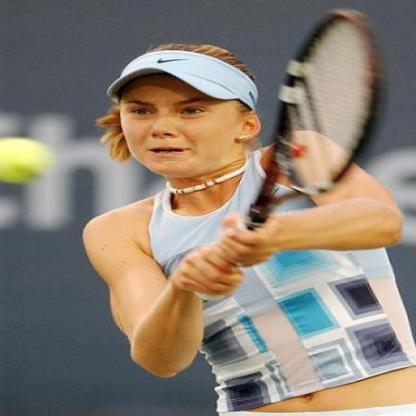face: (120, 46, 245, 180)
